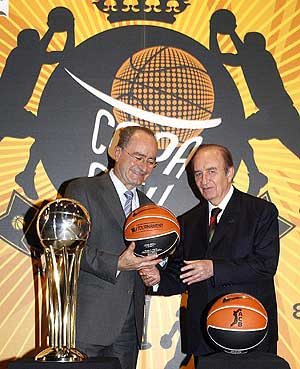basketball: (207, 291, 268, 355), (124, 204, 181, 259)
